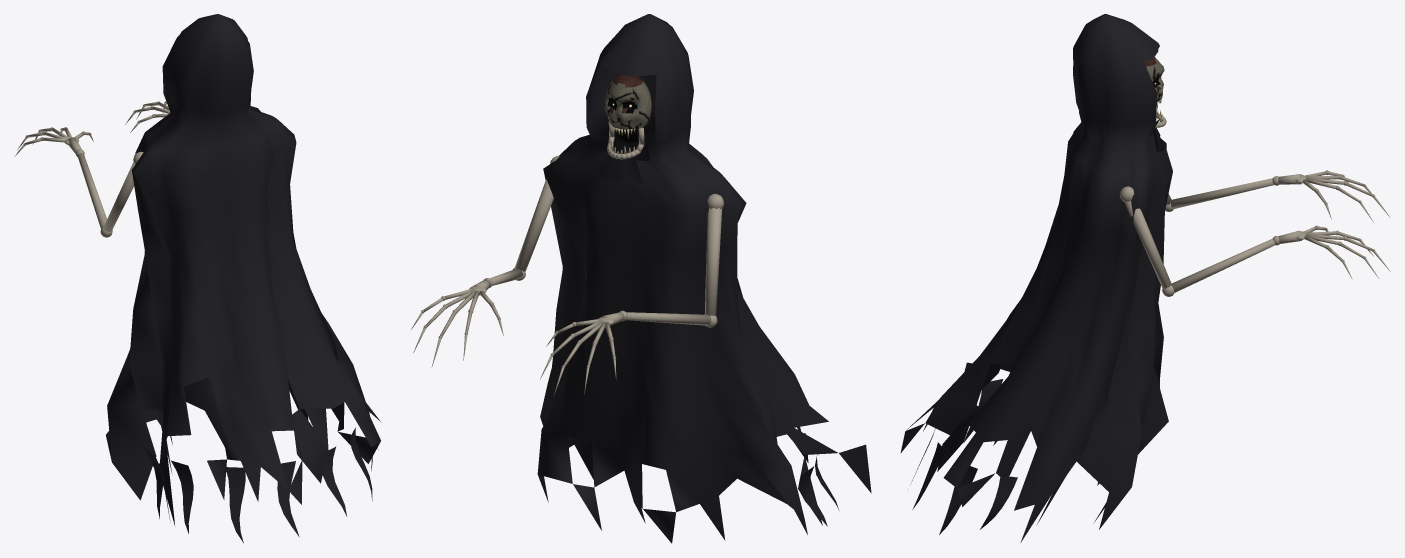
Rendered from ENT_Espectro.fbx.
The picture shows the model from 3 angles, left to right: view 1: azimuth 30°, elevation 25°; view 2: azimuth 150°, elevation 25°; view 3: azimuth 270°, elevation 25°; orthographic projection. The views are drawn at different scales.
Visible parts, largest first — view 1: ENT_Espectro, BrazoIzq, Jiron_1, Jiron_0, Jiron_2, Jiron_3; view 2: ENT_Espectro, BrazoIzq, BrazoDer, Mascara, Mandibula; view 3: ENT_Espectro, BrazoDer, BrazoIzq, Jiron_5, Jiron_4.
Boxes of the visible parts, box(x1,y1,x2,y2) form: ENT_Espectro: box(106, 14, 381, 526); BrazoIzq: box(14, 127, 143, 237); Jiron_1: box(225, 467, 245, 543); Jiron_0: box(171, 460, 193, 533); Jiron_2: box(277, 461, 299, 536); Jiron_3: box(321, 446, 346, 516); ENT_Espectro: box(537, 14, 871, 543); BrazoIzq: box(540, 193, 723, 397); BrazoDer: box(411, 155, 559, 367); Mascara: box(604, 74, 651, 142); Mandibula: box(607, 121, 644, 159); ENT_Espectro: box(900, 14, 1172, 542); BrazoDer: box(1119, 186, 1390, 296); BrazoIzq: box(1165, 170, 1390, 222); Jiron_5: box(980, 475, 1017, 529); Jiron_4: box(939, 466, 977, 534).
Bounding box in the file's own units: 1.59 × 2.88 × 2.63.
